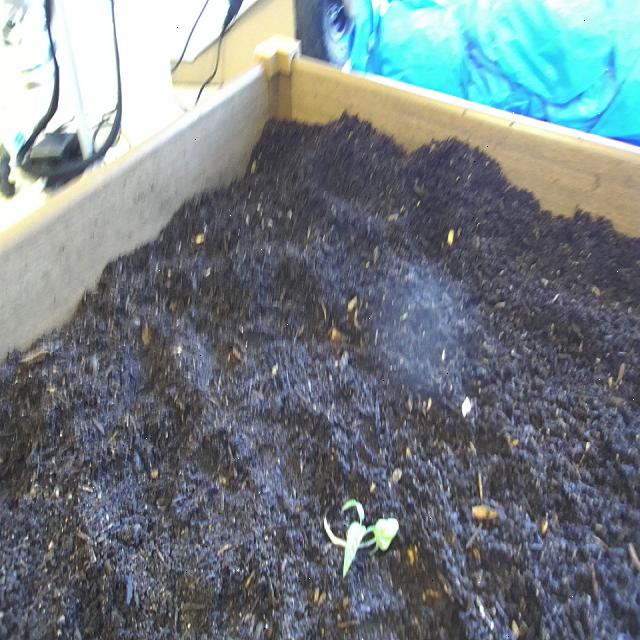Healthy: (316, 495, 402, 583)
